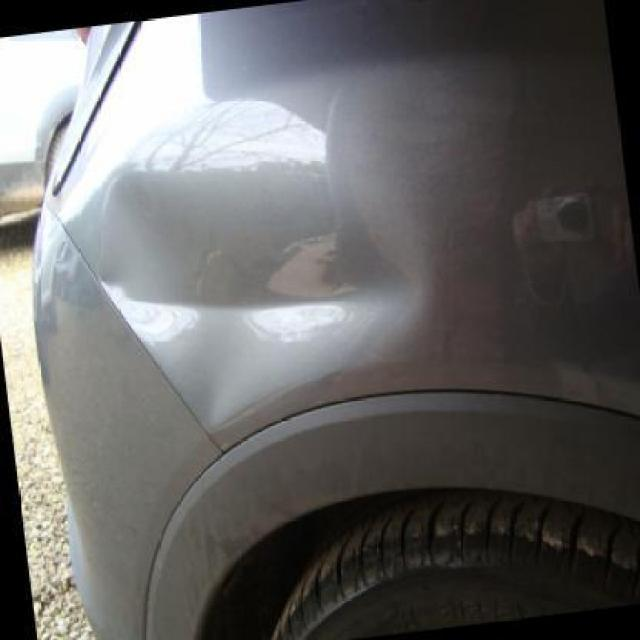dent: (122, 158, 342, 311)
